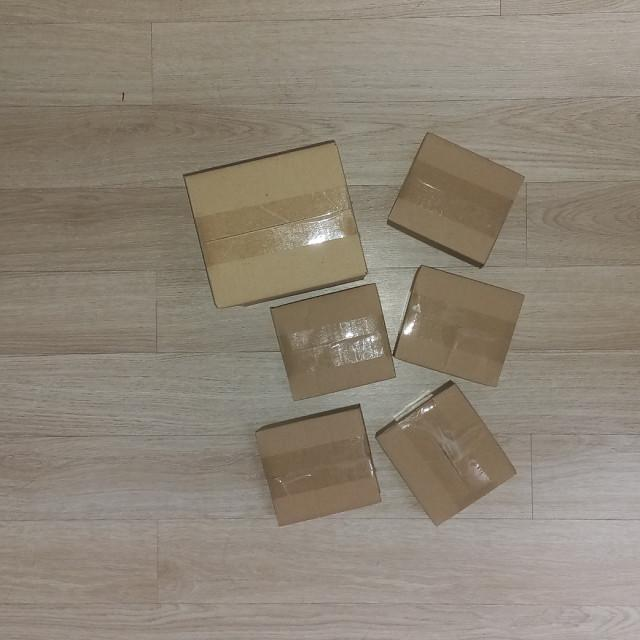box: (177, 135, 375, 314), (372, 378, 524, 530), (380, 123, 532, 274), (248, 400, 390, 534), (390, 259, 532, 392), (265, 276, 404, 405)
